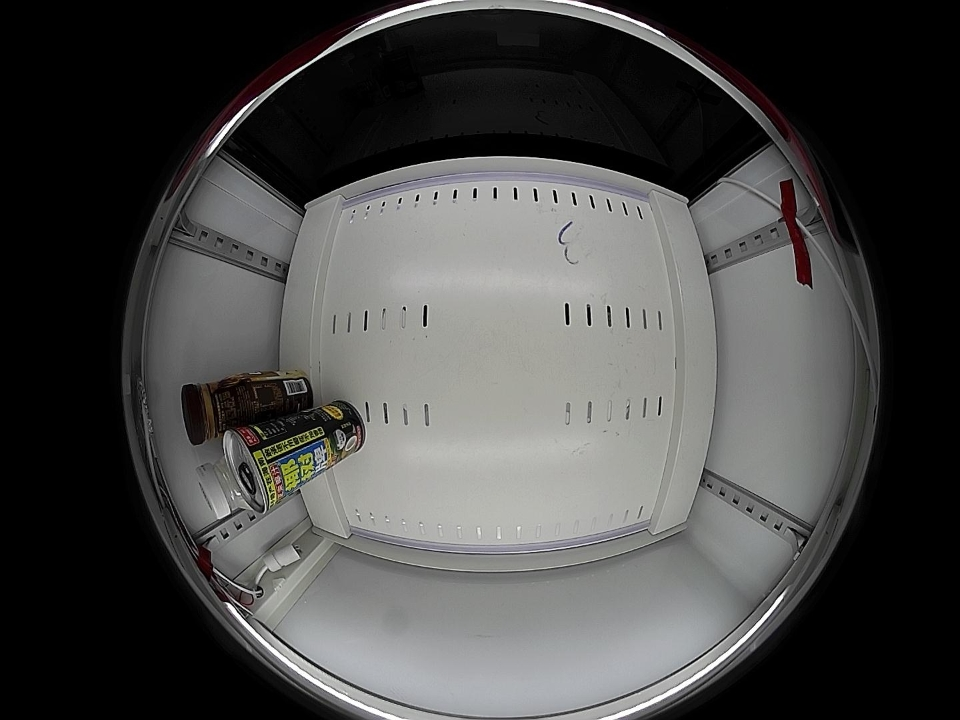lujikafei: (181, 375, 250, 445)
weiweidounai: (196, 456, 244, 518)
yezhi: (222, 421, 289, 514)
